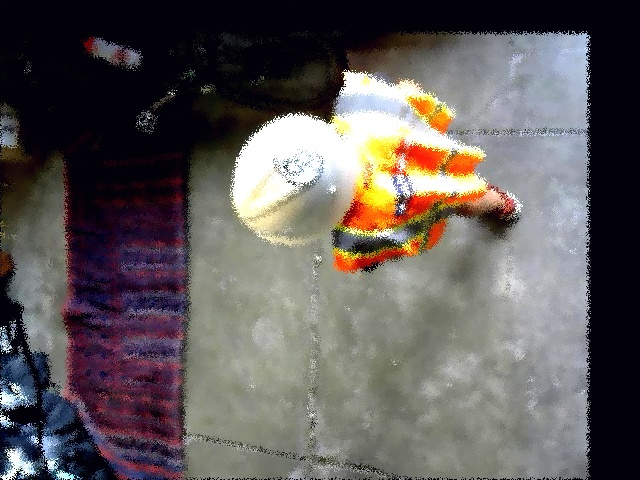eight: (272, 139, 321, 185)
